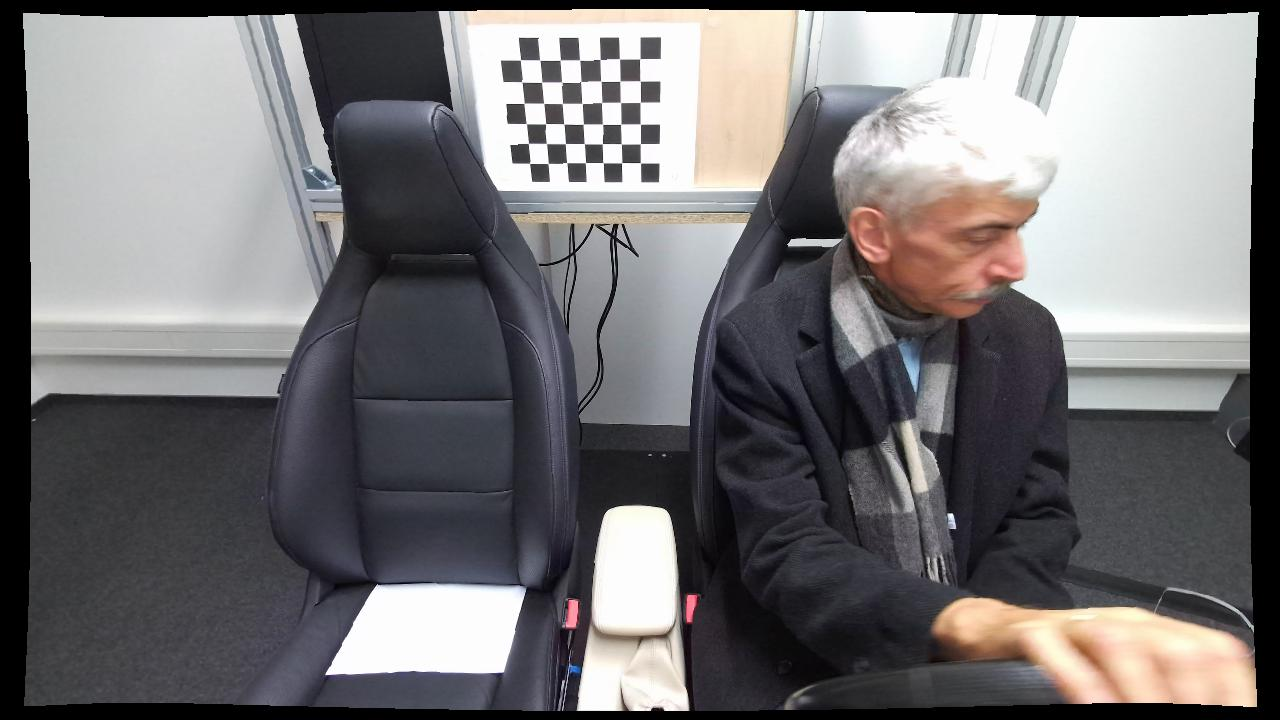Distracted: (708, 73, 1141, 713)
